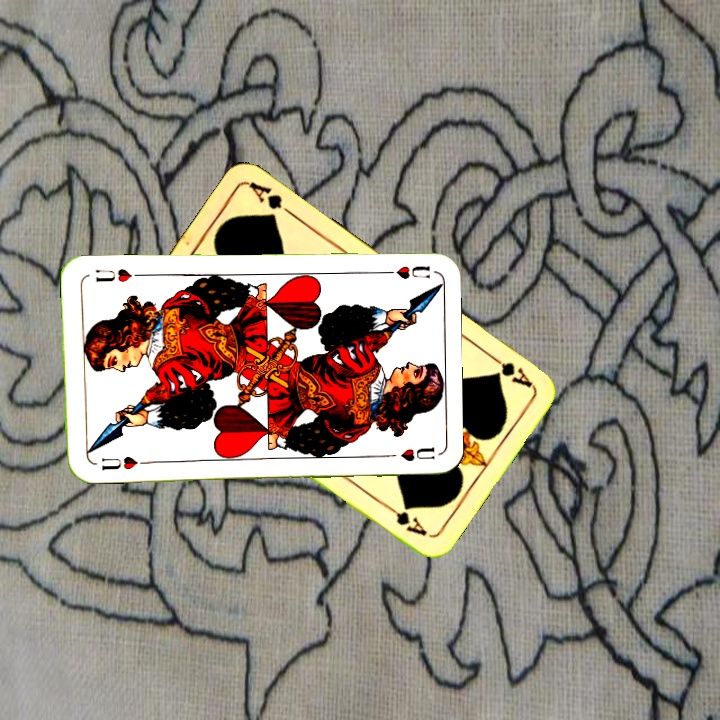GA: (483, 349, 535, 390)
HU: (375, 261, 432, 281), (98, 452, 140, 473)
